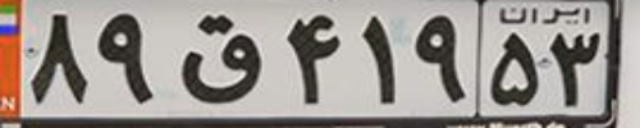1: (357, 14, 396, 105)
3: (548, 30, 599, 107)
4: (286, 13, 342, 104)
5: (487, 31, 539, 106)
8: (28, 13, 93, 105)
9: (98, 12, 158, 104), (414, 15, 469, 103)
ghaf: (179, 14, 263, 105)
